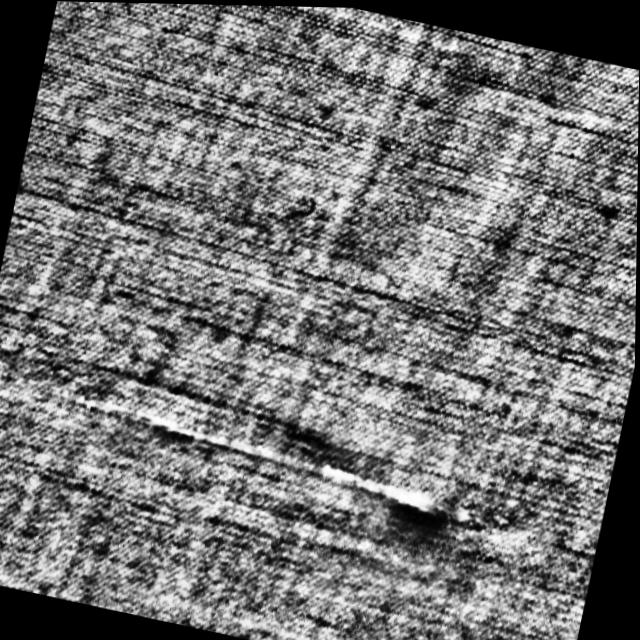Stitch: (47, 387, 528, 546)
